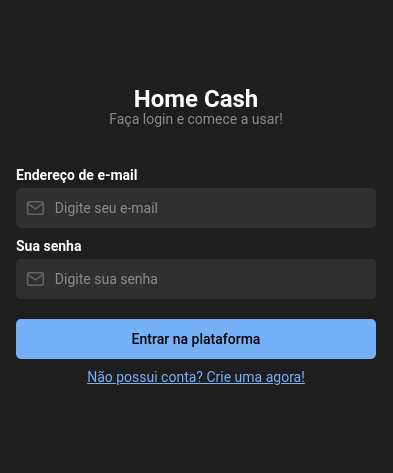
Test: Login › should navigation to signUp
This screenshot has width=393, height=473.
Click the text "Não possui conta? Crie uma agora!".
click(196, 377)  # box [87,369,305,385]
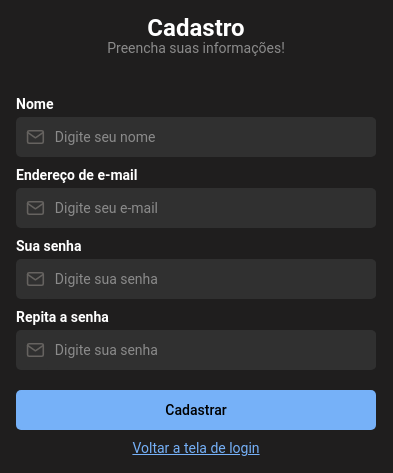
Expected: the heading "Cadastro" is shown, [147,16,245,40]
